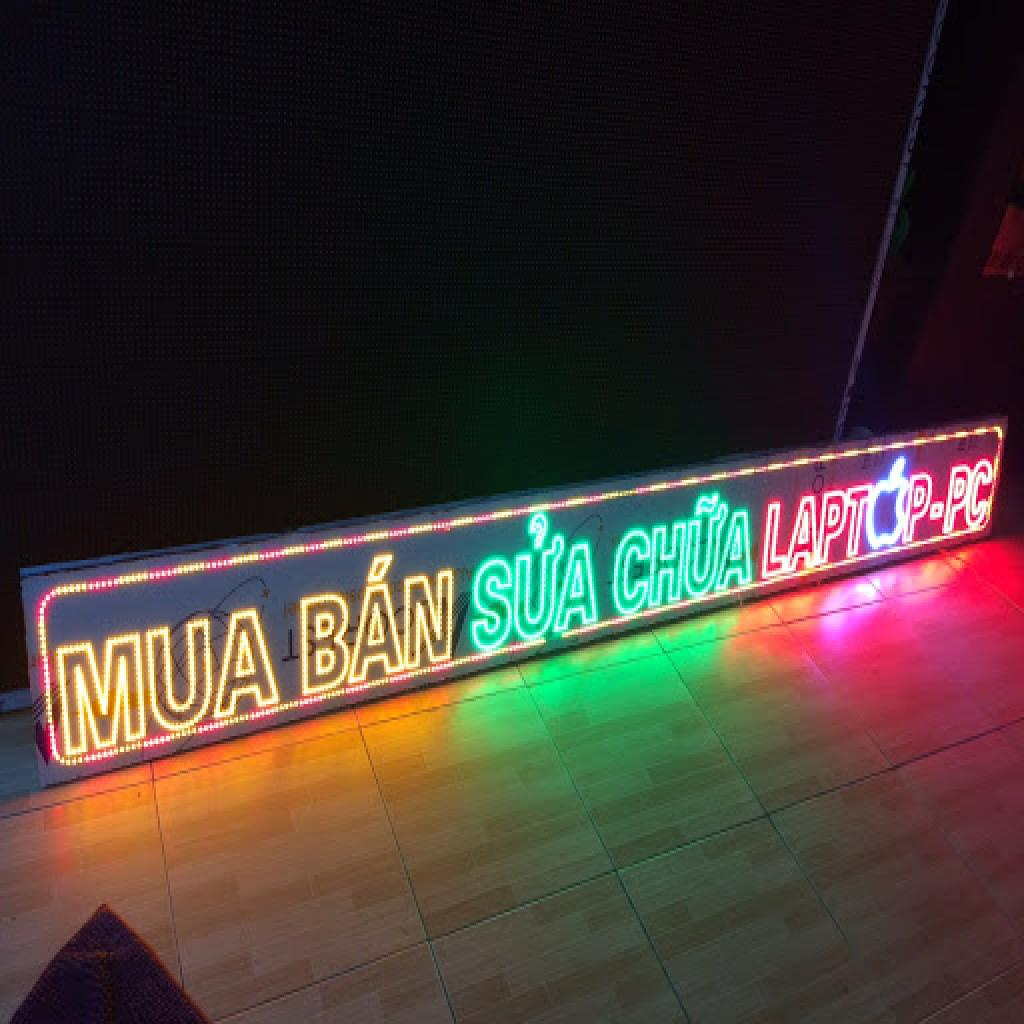text: (54, 605, 284, 760), (296, 544, 458, 701), (610, 482, 756, 626), (466, 506, 604, 658), (760, 480, 878, 584)
